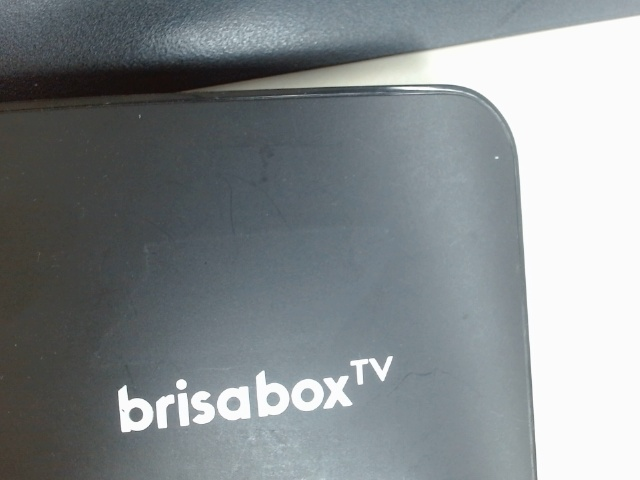AH_brisabox: (98, 352, 410, 436)
